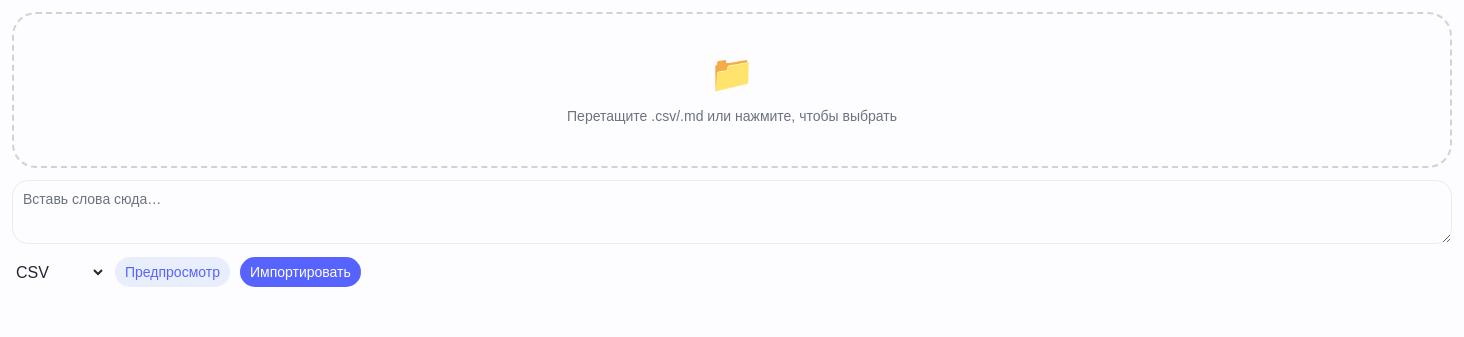
ImportForm › shows an inline error when the import request fails
The image size is (1464, 337).
In the text box: [732, 212] box [12,180,1452,244], type "run,бежать"
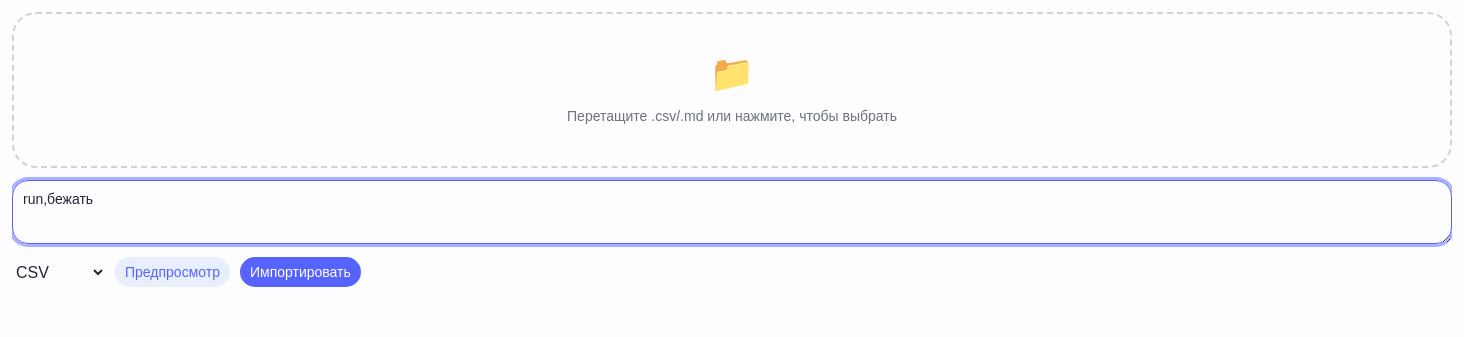
Click the button "Импортировать": [300, 272] box [239,256,362,288]
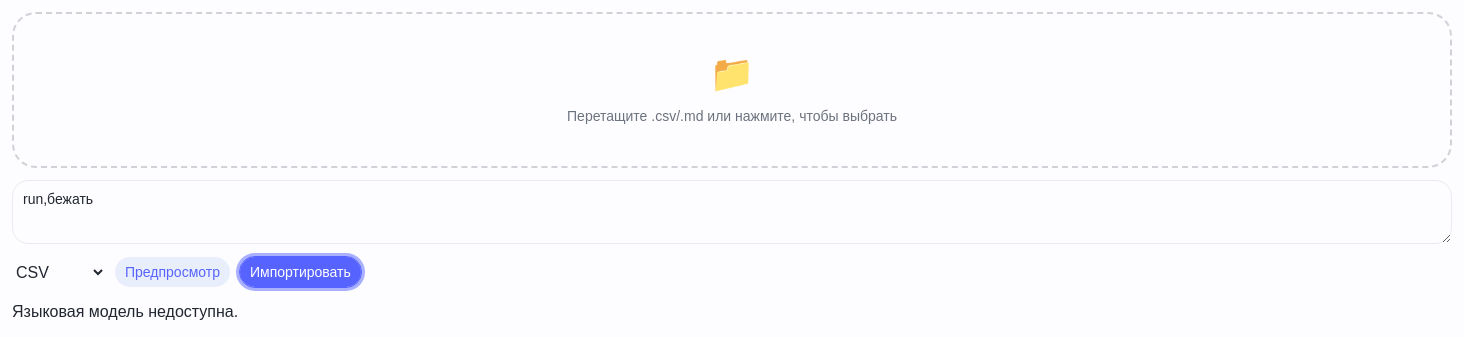
Check: the message "Языковая модель недоступна." is shown, box [12,303,238,320]
